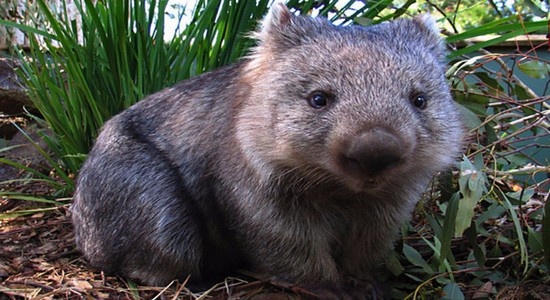Wombat: (70, 2, 467, 300)
